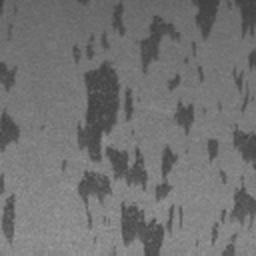Red iron sheet: (61, 0, 256, 256), (0, 61, 19, 151), (0, 173, 15, 244), (0, 0, 5, 14)
